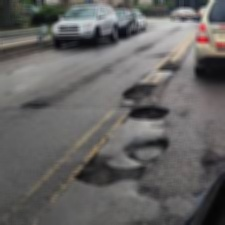pothole: (68, 151, 146, 195), (125, 104, 179, 124), (122, 142, 171, 162), (118, 80, 163, 100), (18, 98, 51, 111), (154, 61, 181, 72)
